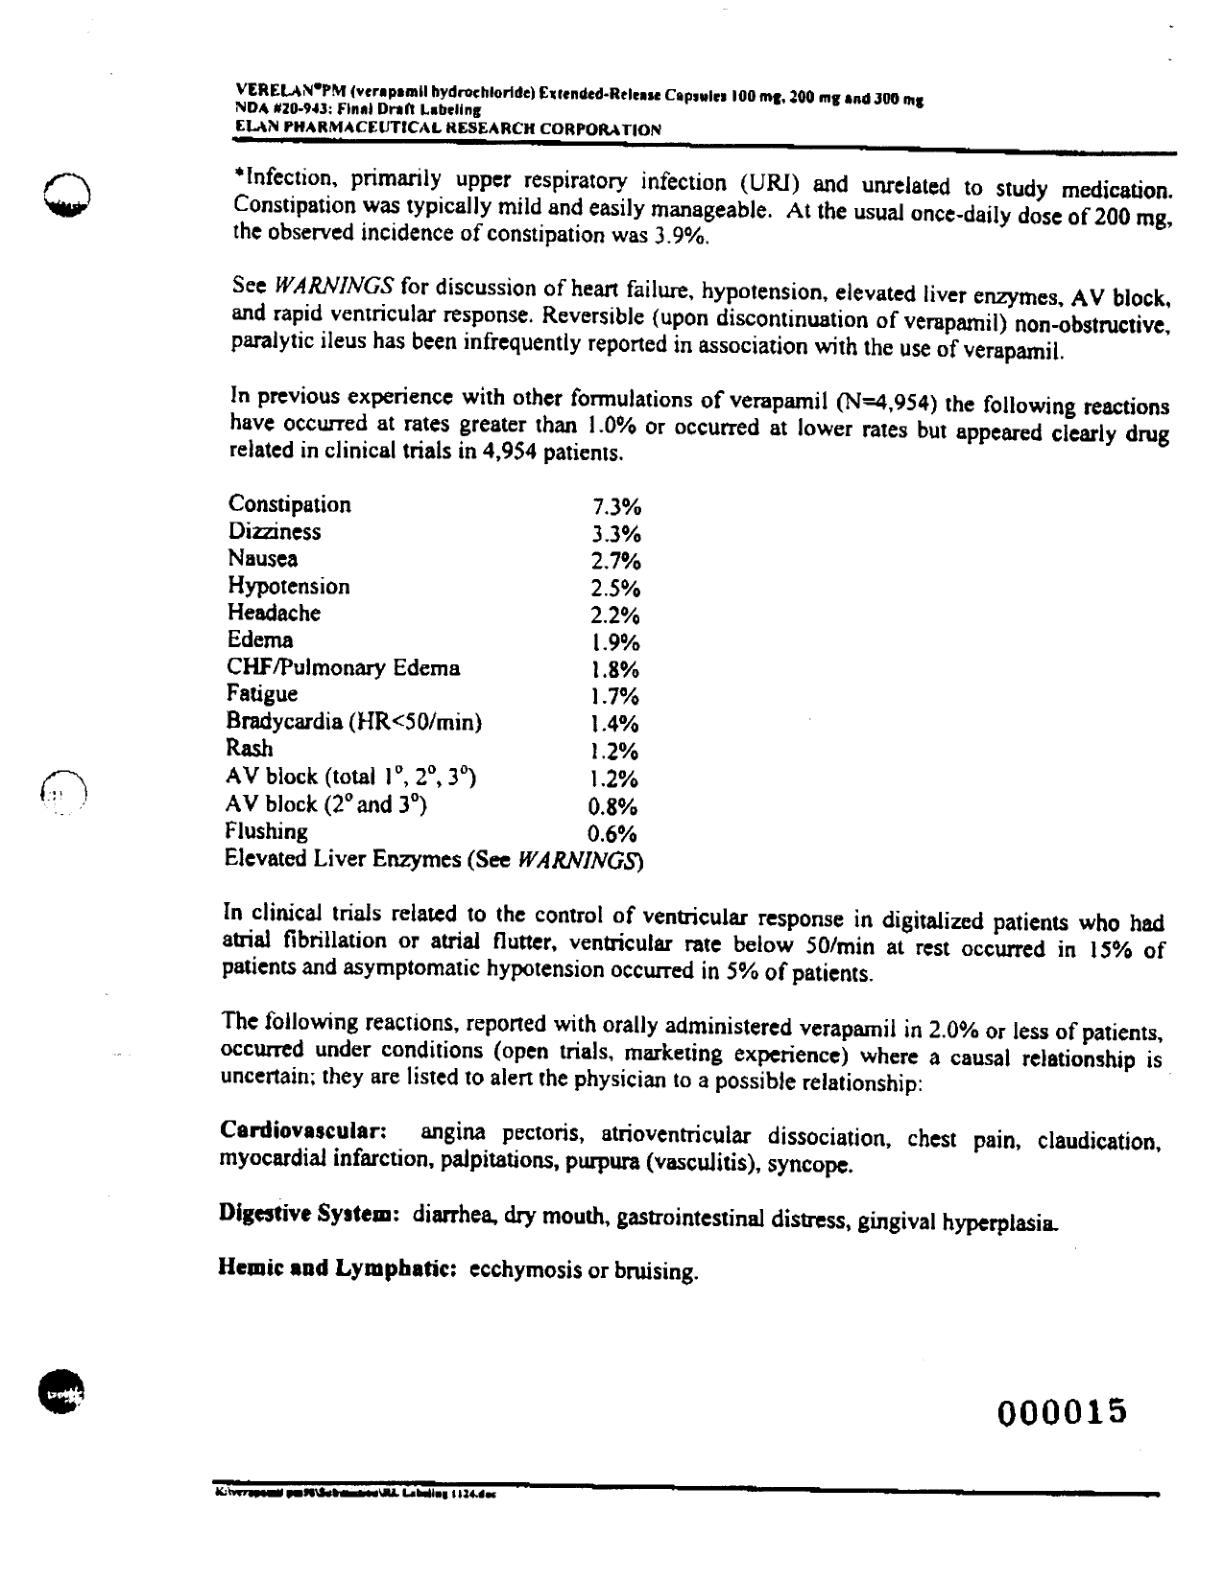nolines: (223, 491, 647, 875)
